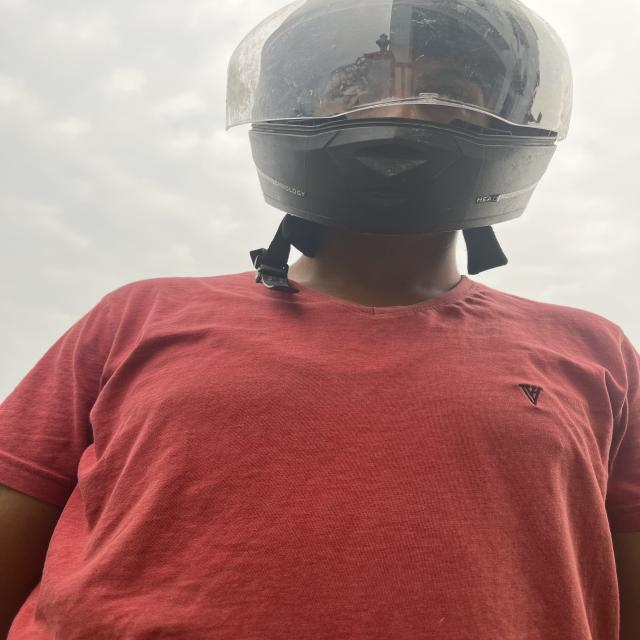Helmet: (227, 0, 572, 235)
